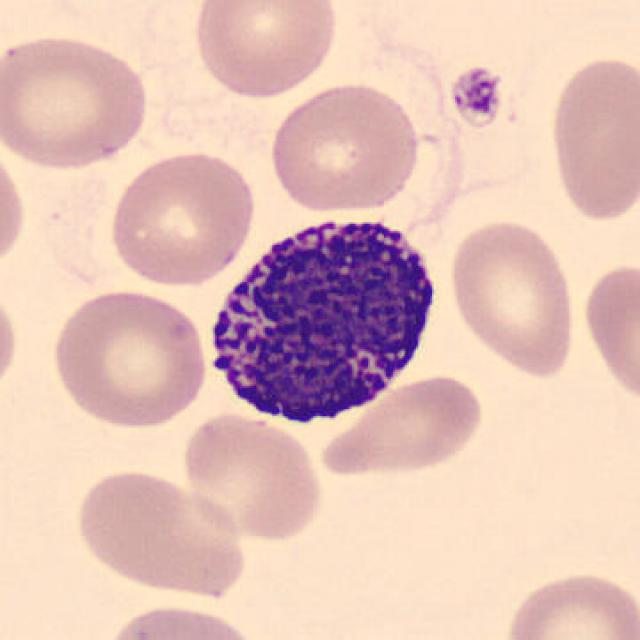Basophil: (196, 198, 448, 436)
Platelets: (446, 64, 505, 130)
RBC: (46, 284, 212, 432), (71, 466, 249, 602), (444, 215, 580, 381), (105, 146, 258, 289), (267, 77, 423, 217), (2, 30, 153, 173), (178, 409, 327, 545), (315, 368, 489, 479), (542, 49, 638, 226), (188, 0, 343, 100), (496, 566, 638, 640), (579, 257, 640, 410), (100, 599, 263, 640), (0, 140, 30, 280), (0, 276, 21, 405)
